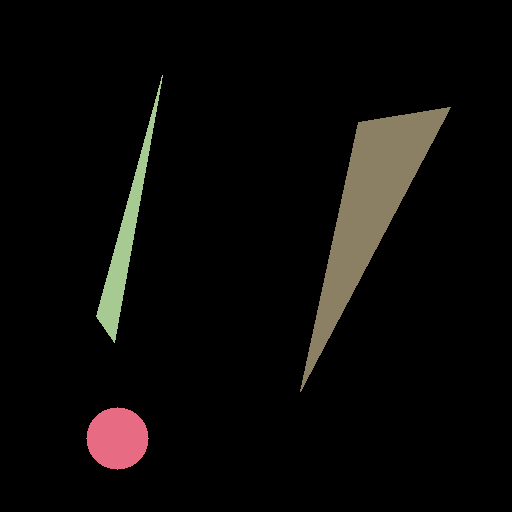circle: (86, 407, 148, 469)
triangle: (300, 107, 450, 391), (96, 75, 162, 342)
